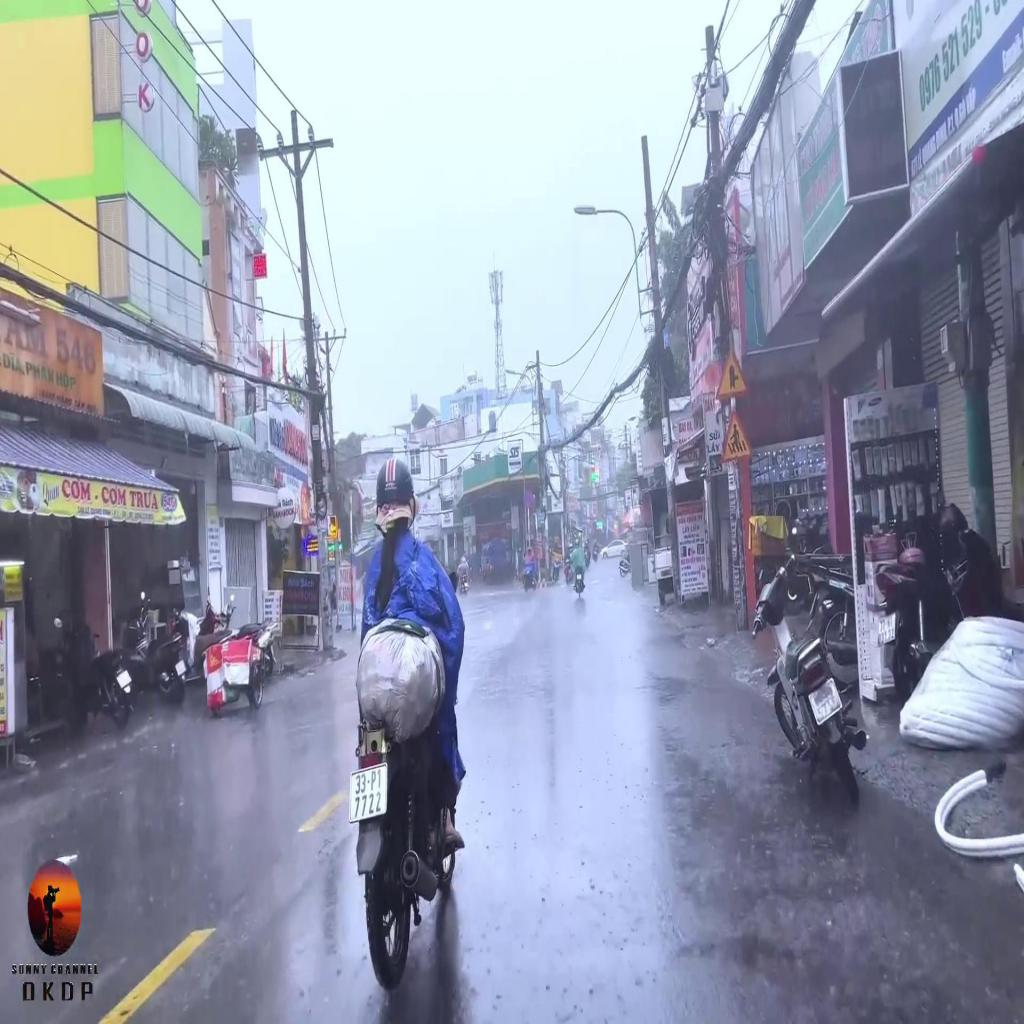chu_y_nguoi_di_bo_cat_ngang: (720, 406, 753, 464)
giao_nhau_voi_duong_khong_uu_tien: (716, 346, 750, 400)
